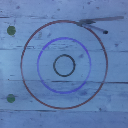Axe Tip: (82, 21, 96, 25)
